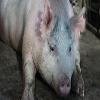heo: (36, 1, 87, 95)
